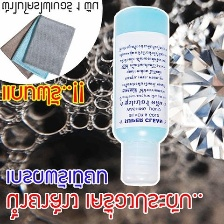cleaning_solution: (111, 4, 171, 188)
